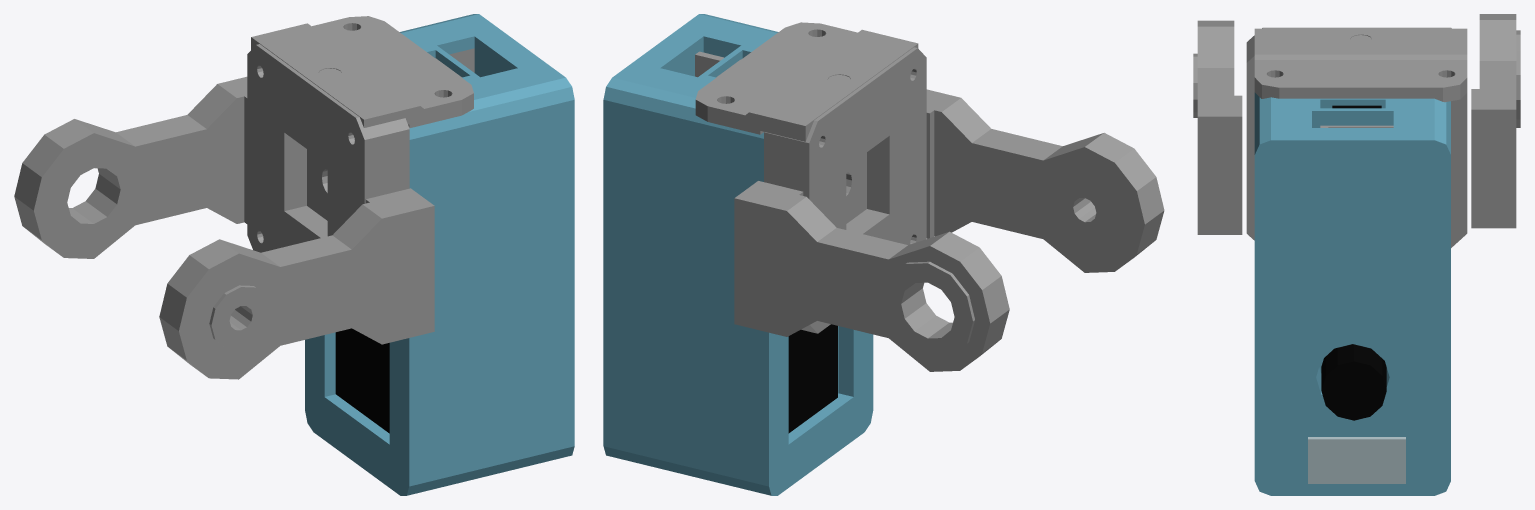
Rendered from head-reye-y.glb.
3 renders of one model, left to right at view 1: azimuth 30°, elevation 25°; view 2: azimuth 150°, elevation 25°; view 3: azimuth 270°, elevation 25°, orthographic. The views are drawn at different scales.
Bounding box in the file's own units: 0.0577 × 0.05 × 0.04.
